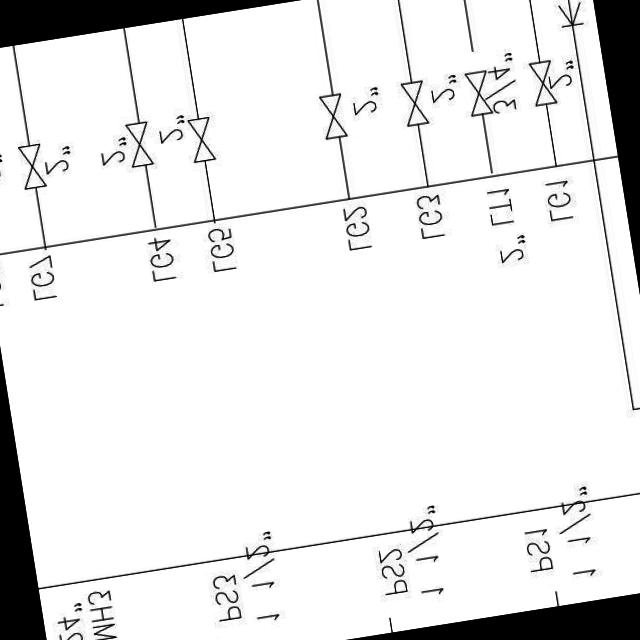GV: (122, 116, 158, 170), (15, 139, 50, 192), (462, 66, 496, 120), (316, 90, 351, 142), (397, 78, 432, 129), (527, 56, 560, 108), (186, 114, 218, 164)
